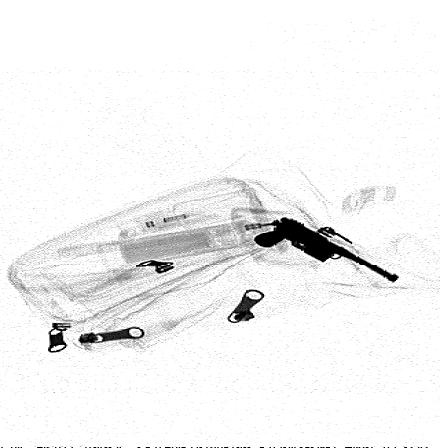Gun: (250, 216, 405, 285)
